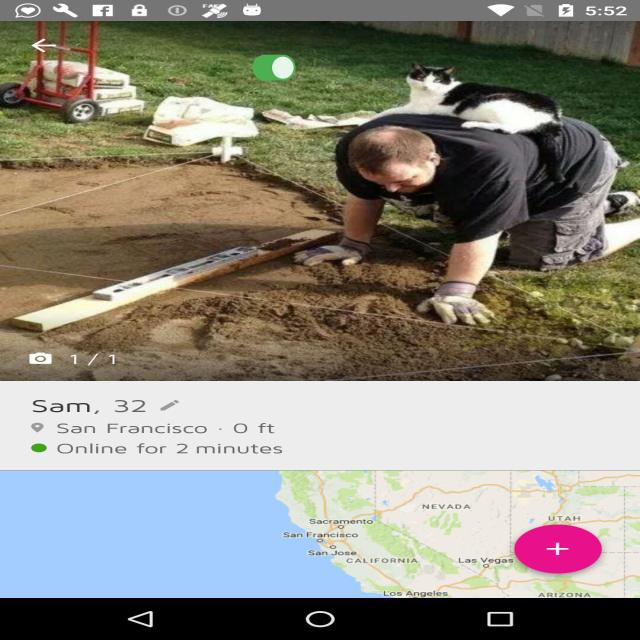social proof: (250, 44, 298, 92)
